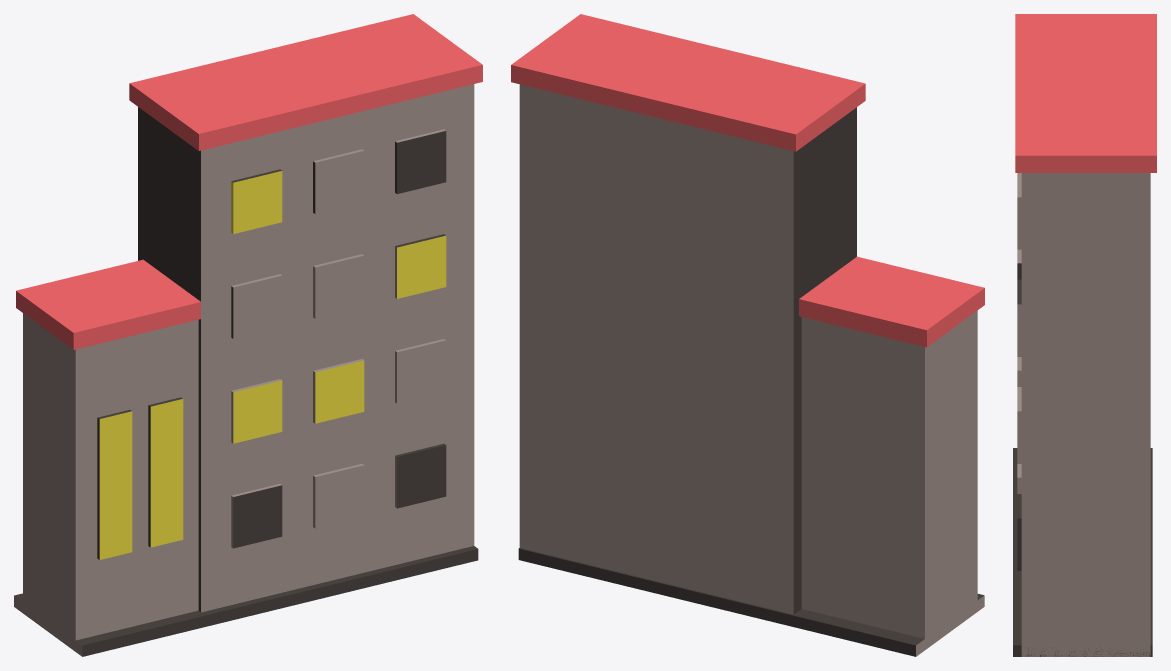
Rendered from Edificio2.fbx.
The picture shows the model from 3 angles, left to right: view 1: azimuth 30°, elevation 25°; view 2: azimuth 150°, elevation 25°; view 3: azimuth 270°, elevation 25°; orthographic projection. The views are drawn at different scales.
Parts seen in each view (by area): view 1: EdificioCiudad2; view 2: EdificioCiudad2; view 3: EdificioCiudad2.
Part boxes in pixels (x1,y1,x2,y2): EdificioCiudad2: (14,14,482,656); EdificioCiudad2: (511,14,984,656); EdificioCiudad2: (1013,14,1156,656).
Bounding box in the file's own units: 446 × 518 × 134.
1 material, 1 textured.
